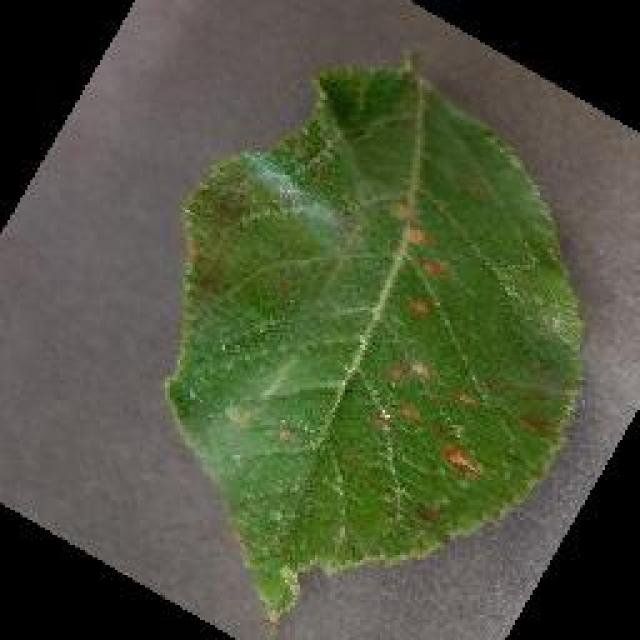apple healthy: (162, 50, 588, 625)
